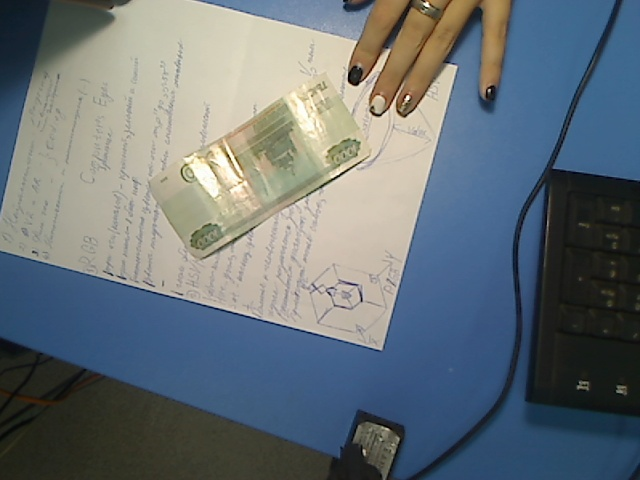banknotes: (144, 72, 374, 258)
